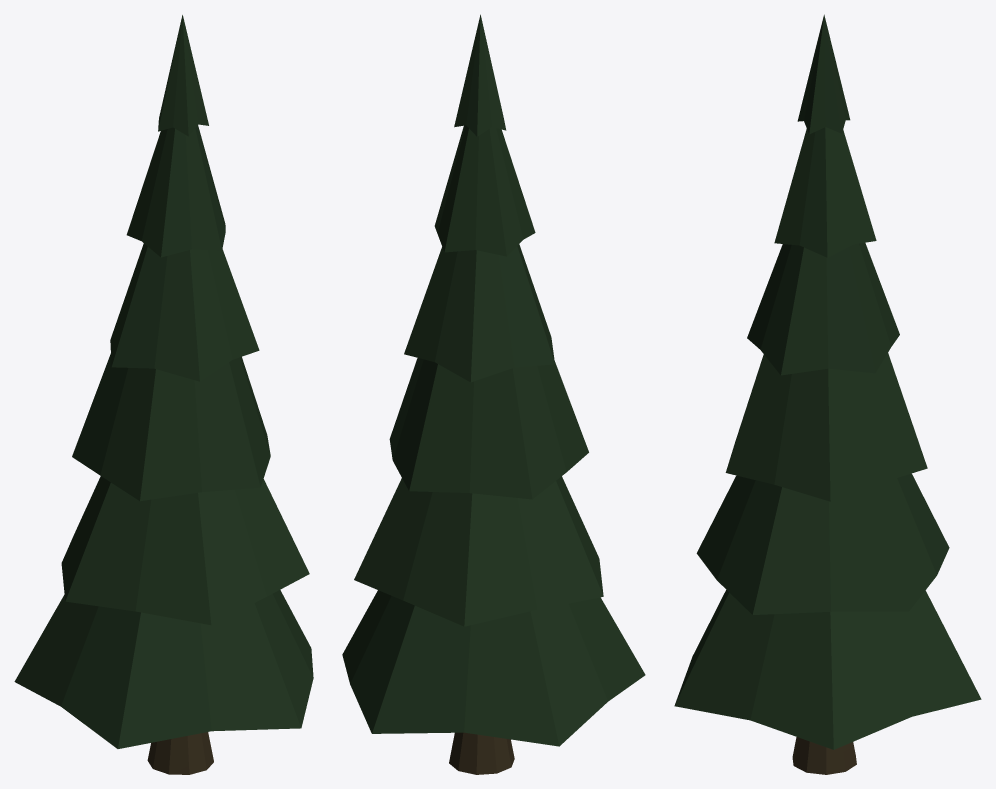
File: tree2.fbx
3 renders of one model, left to right at view 1: azimuth 30°, elevation 25°; view 2: azimuth 150°, elevation 25°; view 3: azimuth 270°, elevation 25°, orthographic.
Parts seen in each view (by area): view 1: tree1; view 2: tree1; view 3: tree1.
Part boxes in pixels (x1,y1,x2,y2): tree1: [14, 15, 313, 774]; tree1: [342, 14, 645, 774]; tree1: [674, 14, 981, 774].
Size of the model in its own units: 390 by 1077 by 401.
